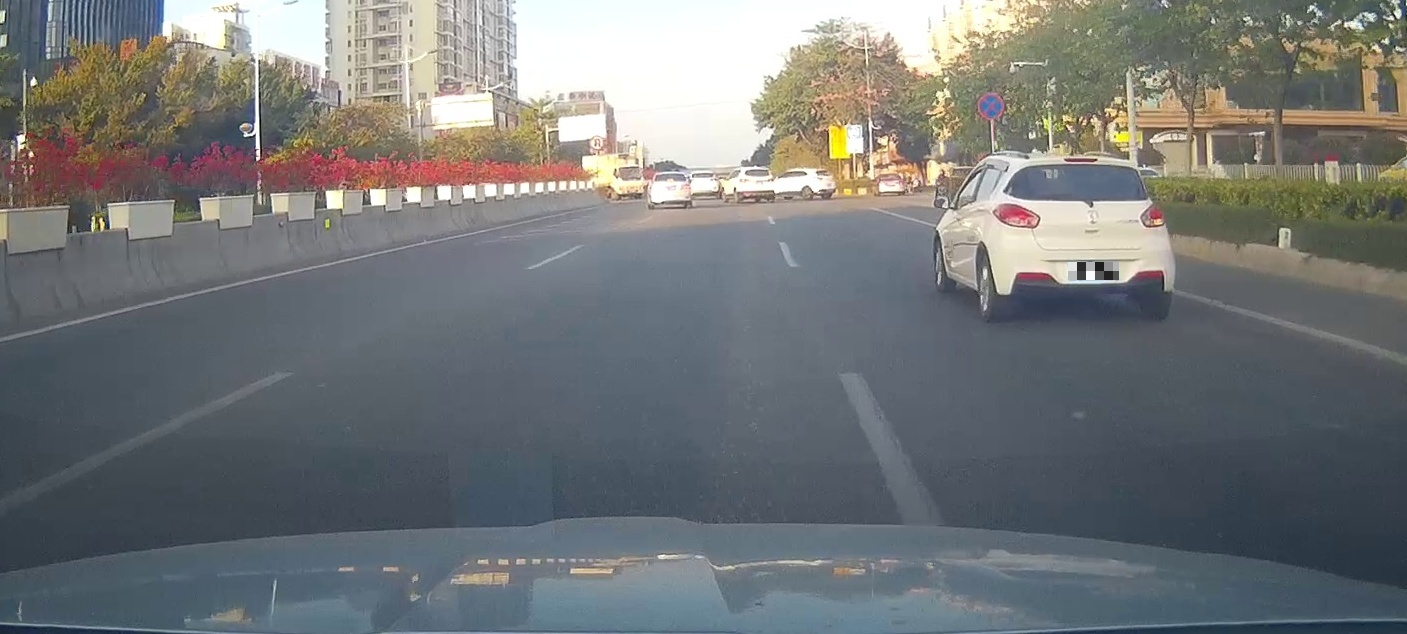L_light: (992, 203, 1041, 229)
R_light: (1140, 204, 1166, 228)
T_light: (1064, 158, 1098, 163)
day-right: (990, 150, 1175, 323)
plate_1: (1068, 262, 1119, 280)
